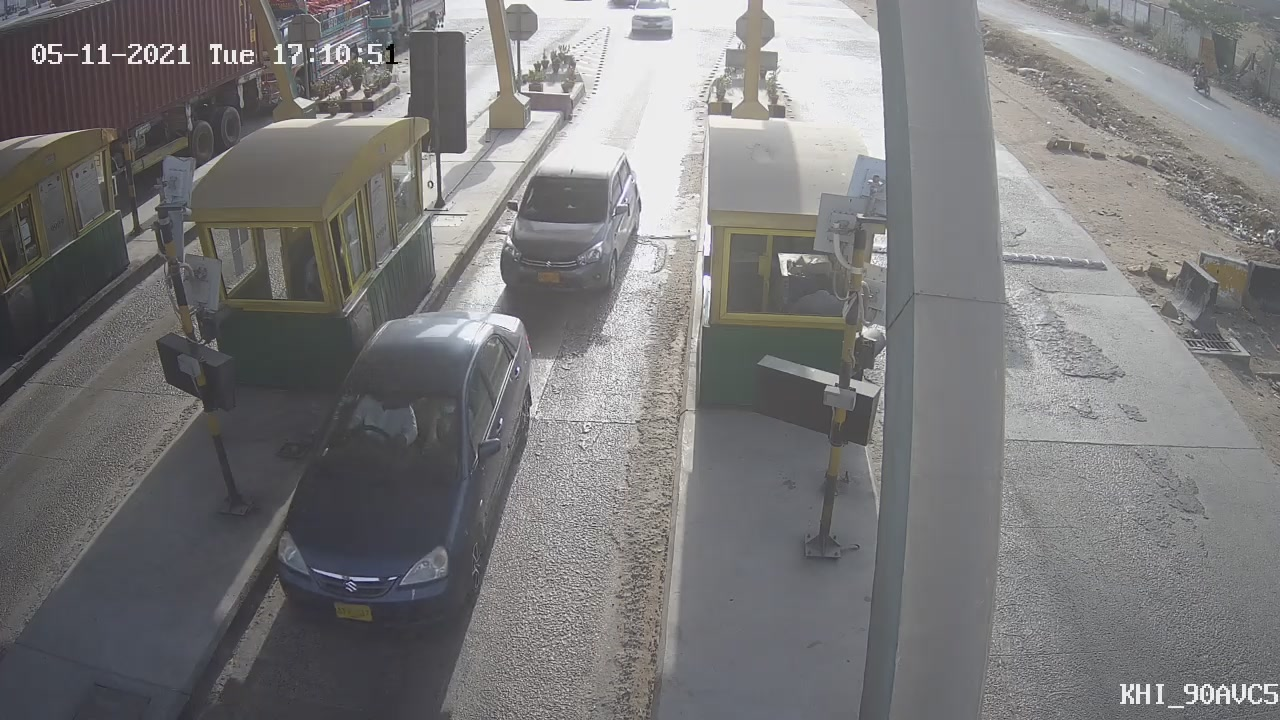F1: (476, 133, 660, 309)
